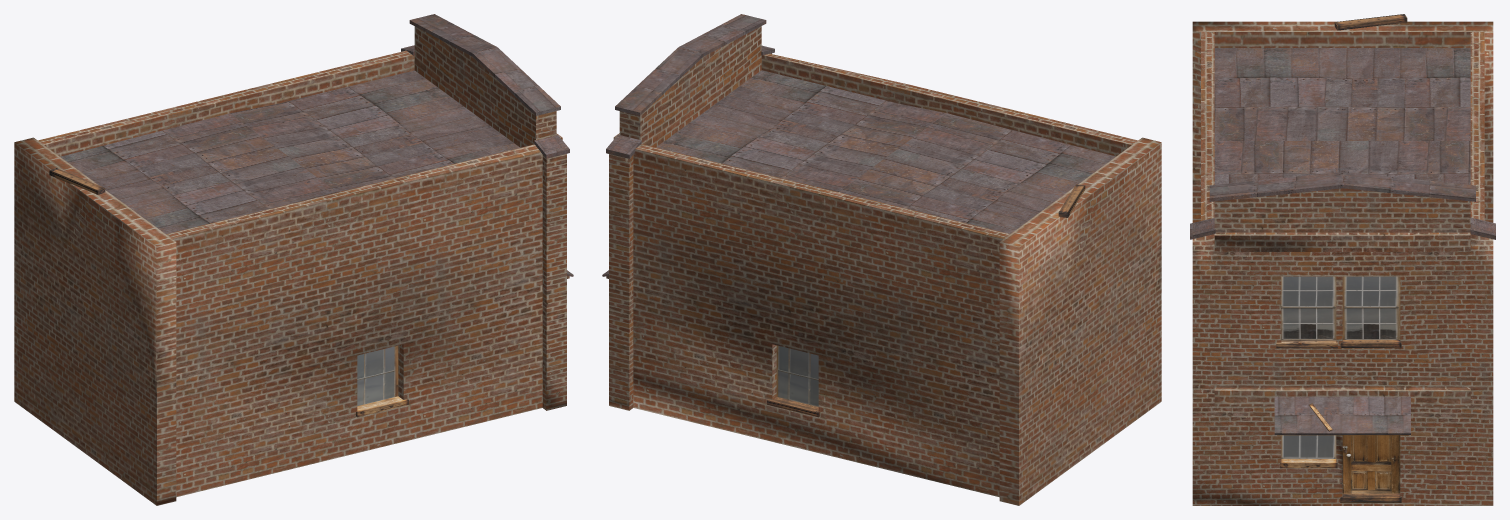
Rendered from old brick house_p6.fbx.
3 renders of one model, left to right at view 1: azimuth 30°, elevation 25°; view 2: azimuth 150°, elevation 25°; view 3: azimuth 270°, elevation 25°, orthographic. The views are drawn at different scales.
Visible parts, largest first — view 1: old_brick_house____1_; view 2: old_brick_house____1_; view 3: old_brick_house____1_.
Part boxes in pixels (box(x1,y1,x2,y2)): old_brick_house____1_: box(14, 14, 573, 505); old_brick_house____1_: box(602, 14, 1161, 505); old_brick_house____1_: box(1190, 14, 1495, 505).
Size of the model in its own units: 8544 by 5396 by 4643.
Materials: 1 (1 with a texture image).
